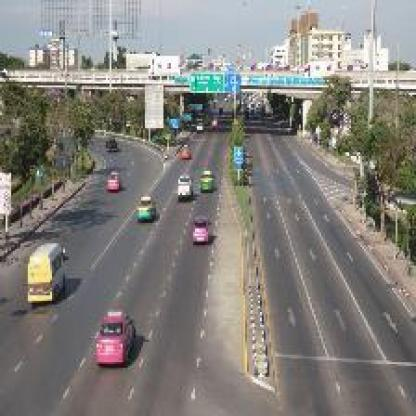other: (22, 240, 72, 302)
